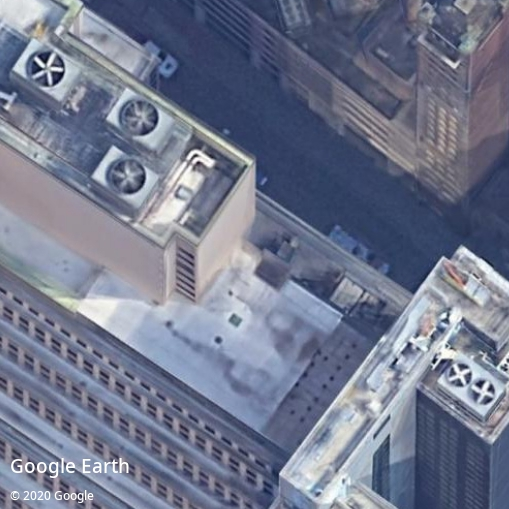Vent: (121, 100, 159, 137), (29, 51, 66, 88), (110, 159, 146, 195), (447, 362, 472, 387), (470, 379, 495, 404)
